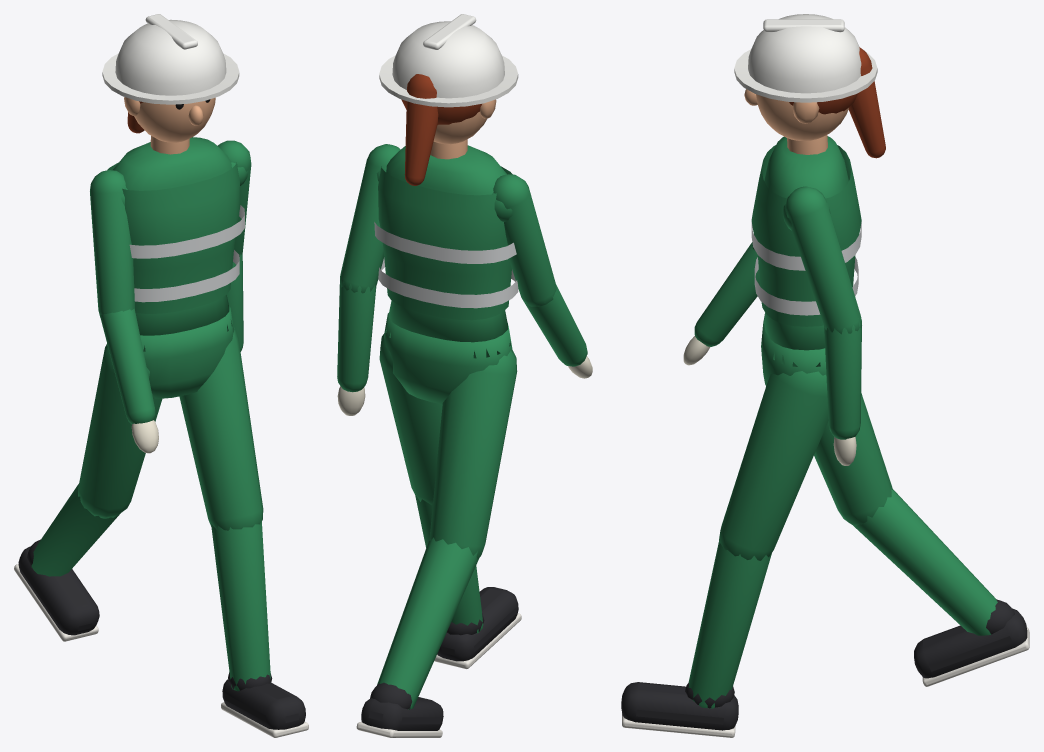
The model's file is crew_walk_b.fbx.
3 views of the same model, side by side, from view 1: azimuth 30°, elevation 25°; view 2: azimuth 150°, elevation 25°; view 3: azimuth 270°, elevation 25° (orthographic). The views are drawn at different scales.
Parts seen in each view (by area): view 1: crew_walk_b; view 2: crew_walk_b; view 3: crew_walk_b.
Part boxes in pixels (left/top/right/bottom): crew_walk_b: left=14, top=14, right=308, bottom=737; crew_walk_b: left=337, top=14, right=592, bottom=737; crew_walk_b: left=621, top=14, right=1029, bottom=737.
Size of the model in its own units: 0.4965 by 1.76 by 0.9406.
